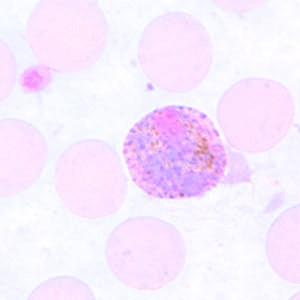Infected: (125, 105, 229, 203)
Uninfected: (138, 12, 214, 92), (106, 214, 184, 291), (218, 78, 298, 153), (29, 0, 110, 74), (54, 140, 126, 220)
